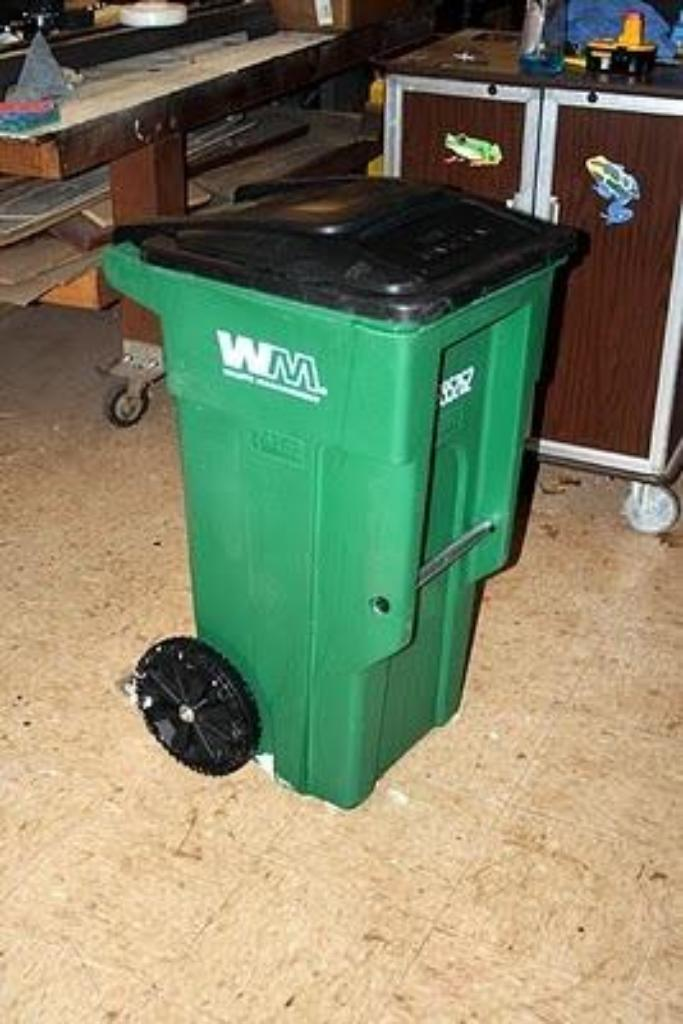dustbin: (83, 178, 588, 846)
